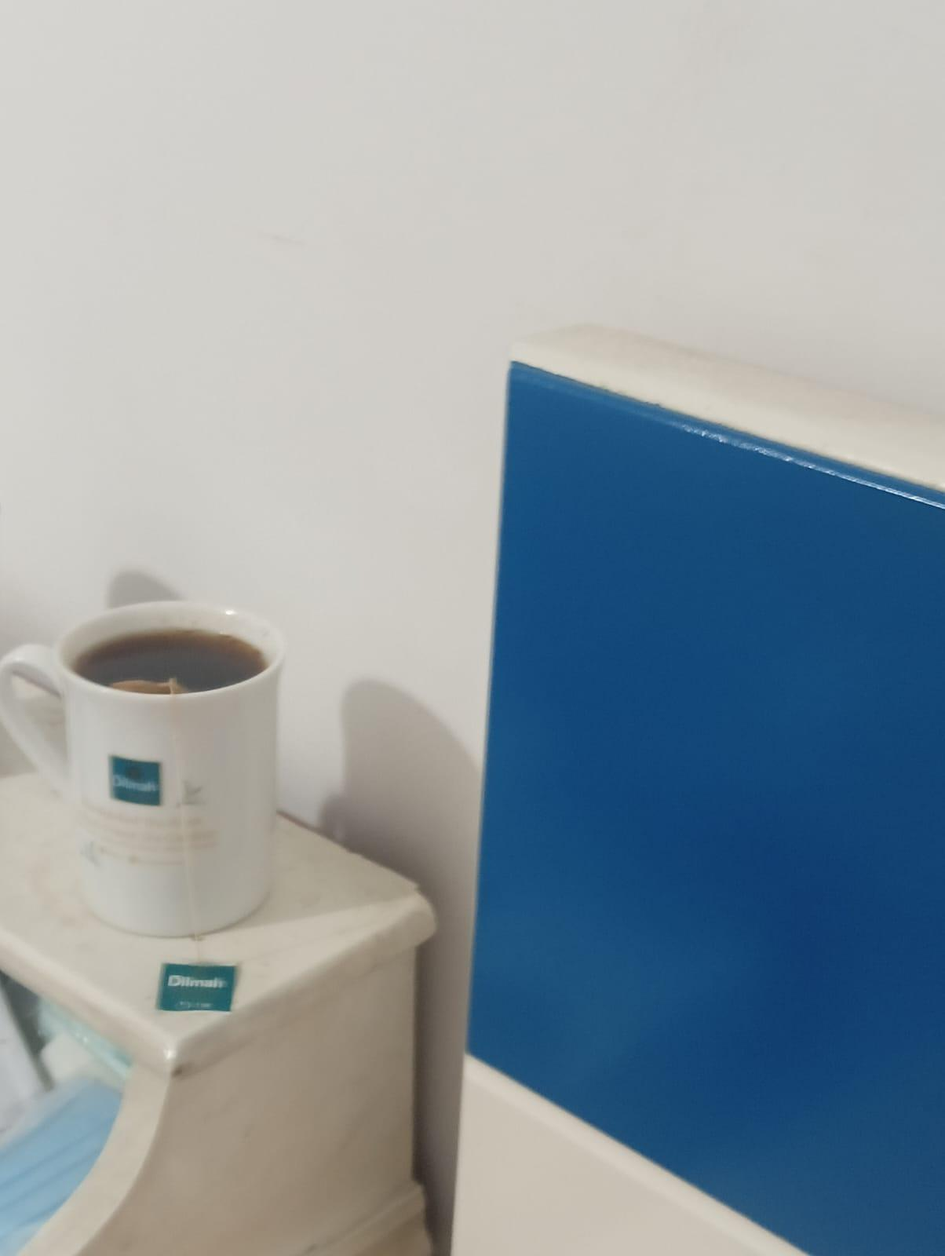cup: (0, 601, 283, 936)
